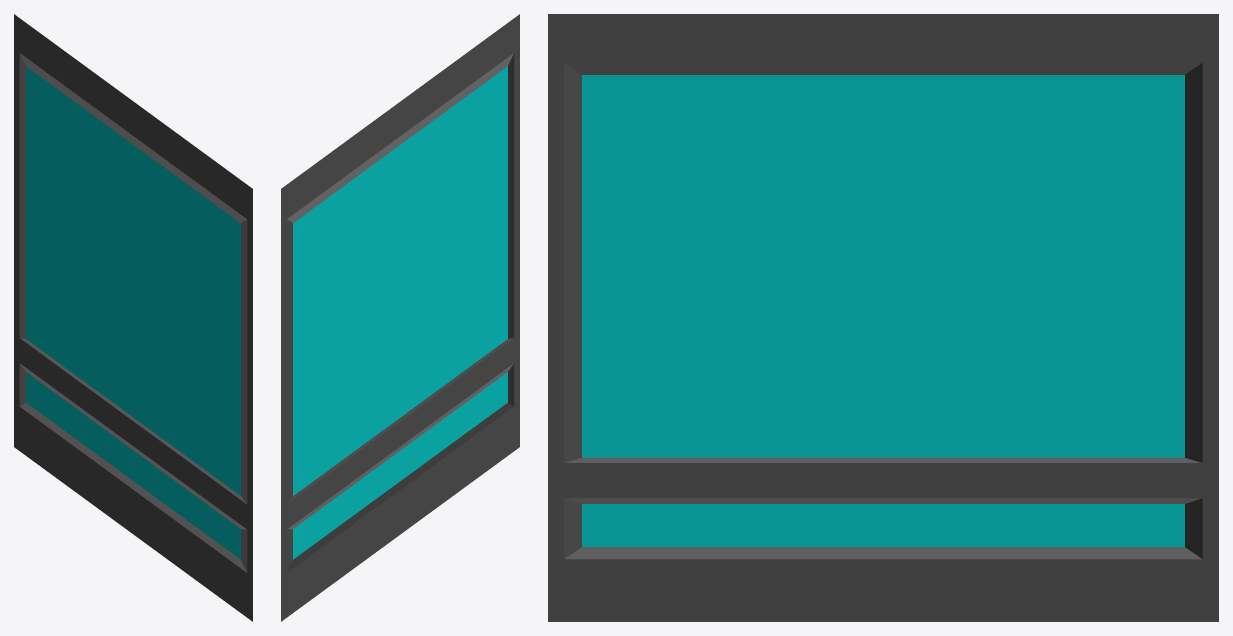
Rendered from milit_wall_window_02_LOD1.fbx.
The picture shows the model from 3 angles, left to right: view 1: azimuth 30°, elevation 25°; view 2: azimuth 150°, elevation 25°; view 3: azimuth 270°, elevation 25°; orthographic projection. The views are drawn at different scales.
Parts seen in each view (by area): view 1: milit_wall_window_02_LOD1; view 2: milit_wall_window_02_LOD1; view 3: milit_wall_window_02_LOD1.
Boxes of the visible parts, x1,y1,x2,y2 form: milit_wall_window_02_LOD1: [14, 14, 252, 621]; milit_wall_window_02_LOD1: [281, 14, 519, 621]; milit_wall_window_02_LOD1: [548, 14, 1218, 621].
Size of the model in its own units: 2.86e-07 by 3 by 3.
